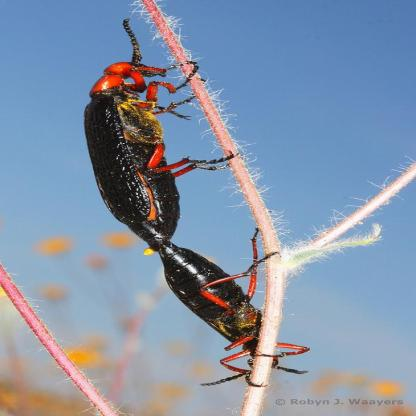beetle: (79, 11, 225, 248), (135, 243, 350, 390)
